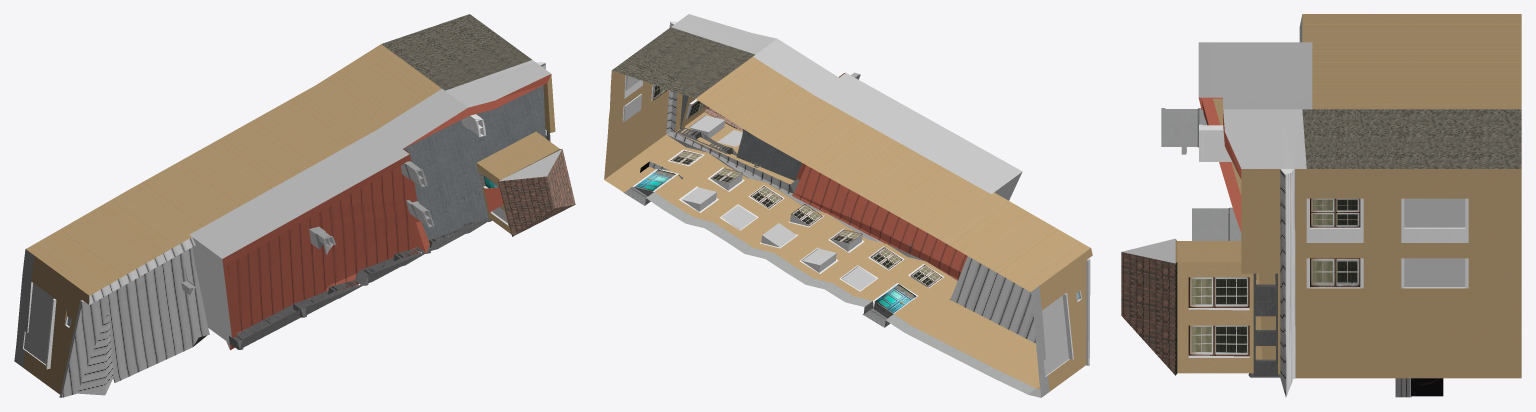
The model's file is Raekoja_plats_11-origo.obj.
3 renders of one model, left to right at view 1: azimuth 30°, elevation 25°; view 2: azimuth 150°, elevation 25°; view 3: azimuth 270°, elevation 25°, orthographic. The views are drawn at different scales.
Visible parts, largest first — view 1: Raekoja_plats_11, xxx; view 2: Raekoja_plats_11, xxx; view 3: Raekoja_plats_11, xxx.
Boxes of the visible parts, bbox=[...] form: Raekoja_plats_11: bbox=[14, 14, 575, 397]; xxx: bbox=[26, 44, 441, 292]; Raekoja_plats_11: bbox=[604, 14, 1092, 397]; xxx: bbox=[695, 57, 1086, 291]; Raekoja_plats_11: bbox=[1121, 14, 1521, 397]; xxx: bbox=[1312, 15, 1521, 109].
Bounding box in the file's own units: 29.31 × 14 × 12.53.
